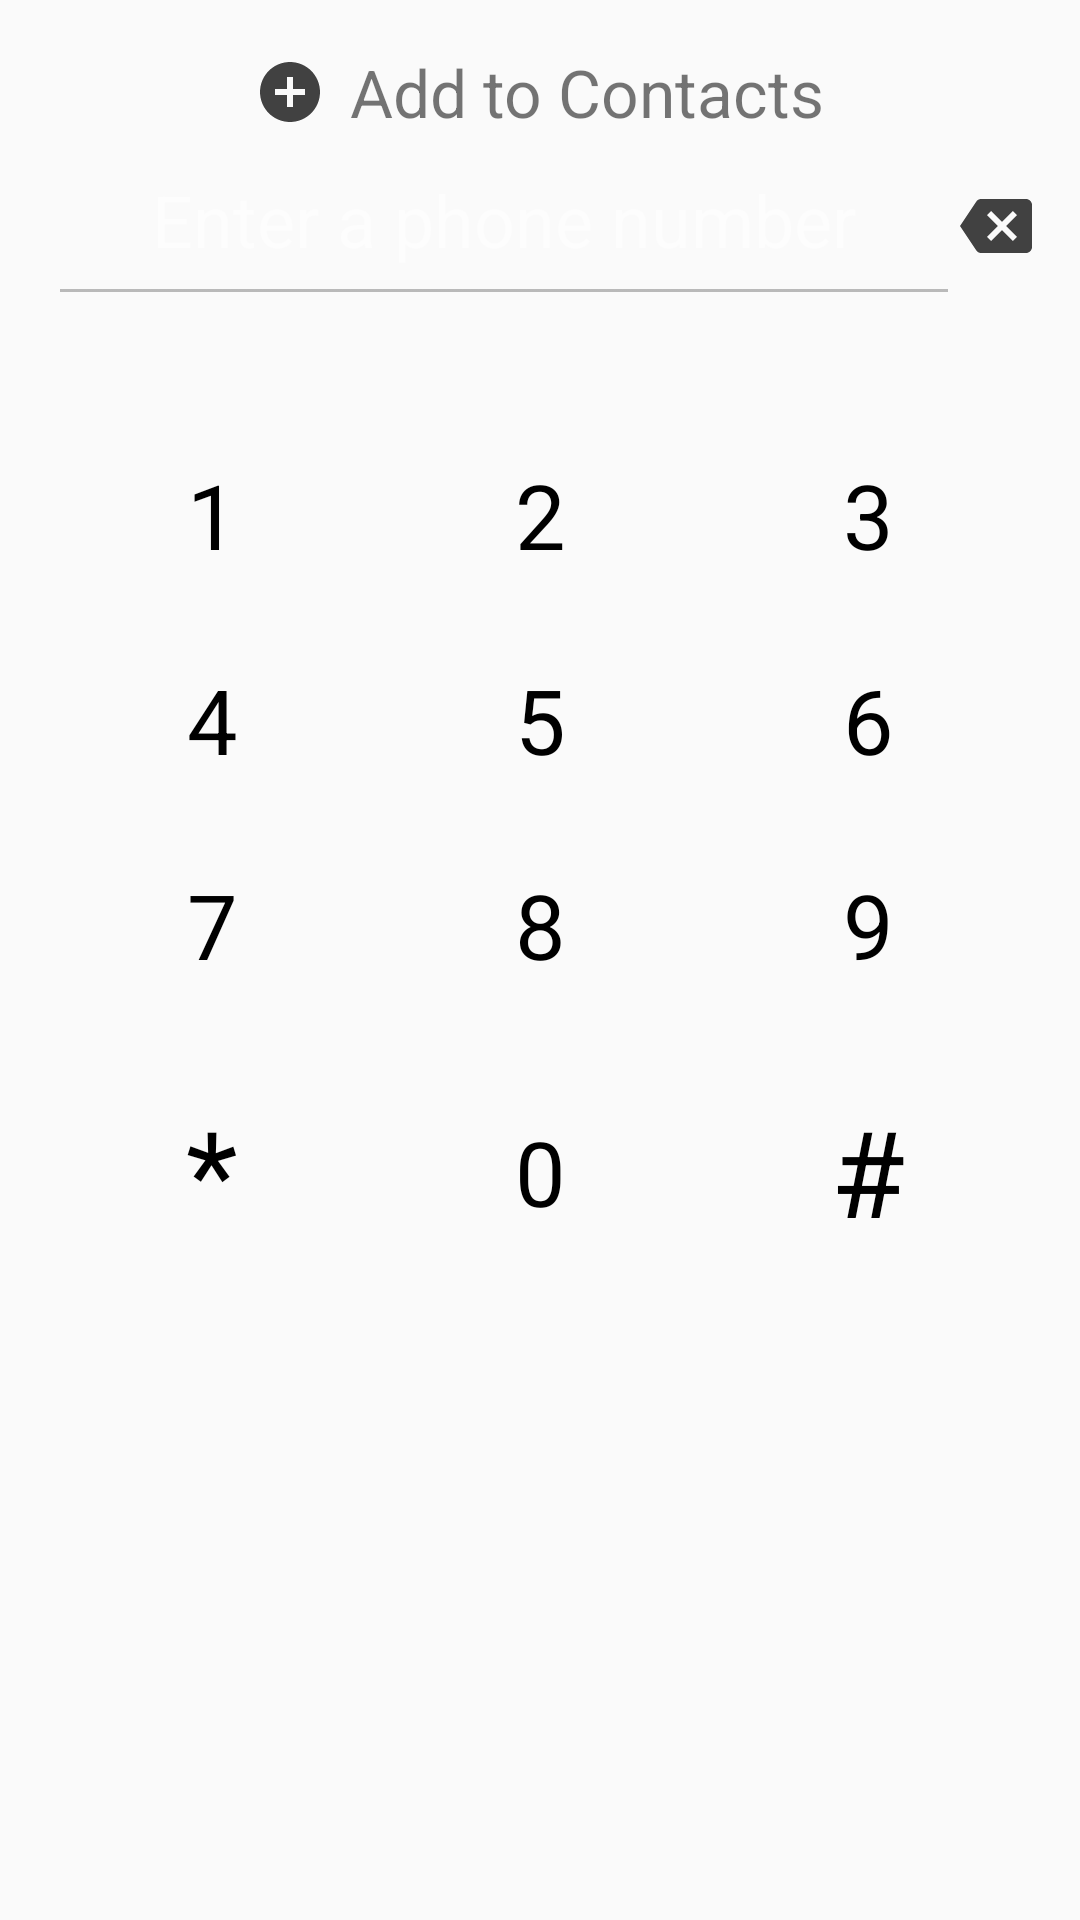

Point at icon controls on the screen. Image size 1080w x 1920h, points as [x,y].
backspace: [996,226]
